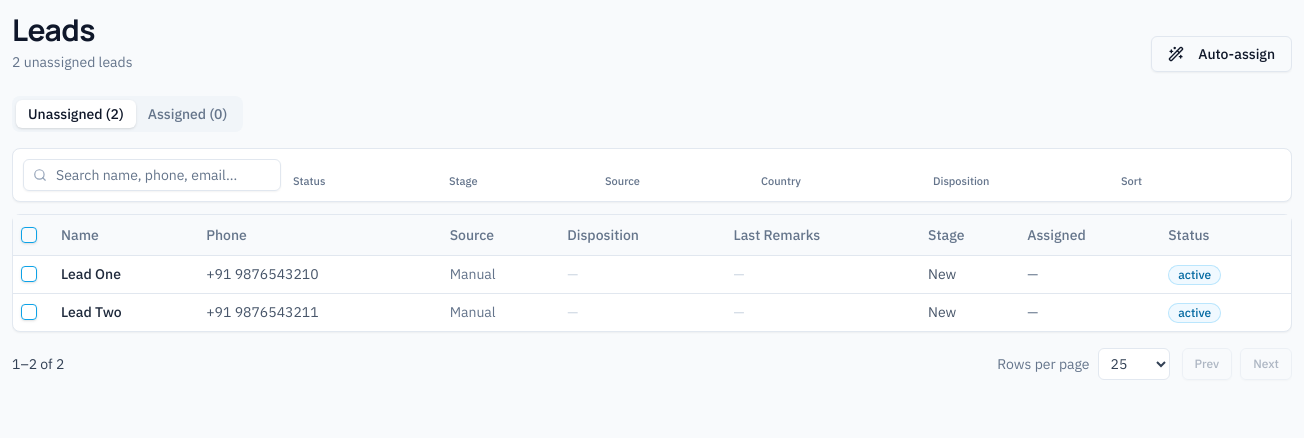
Test: Leads role visibility › shows indeterminate select-all when only some page leads are selected
This screenshot has width=1304, height=438.
Click the checkbox with test id "lead-check-lead-1" at x=29, y=274, box [21,266,37,282]
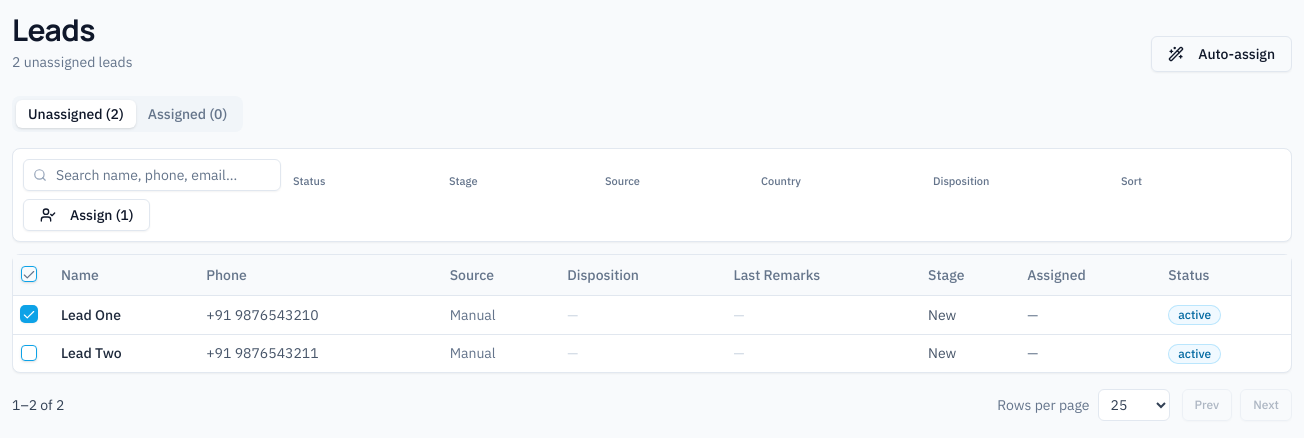
Result: the button with test id "assign-selected-btn" reads "Assign (1)" at [23,199,150,231]
